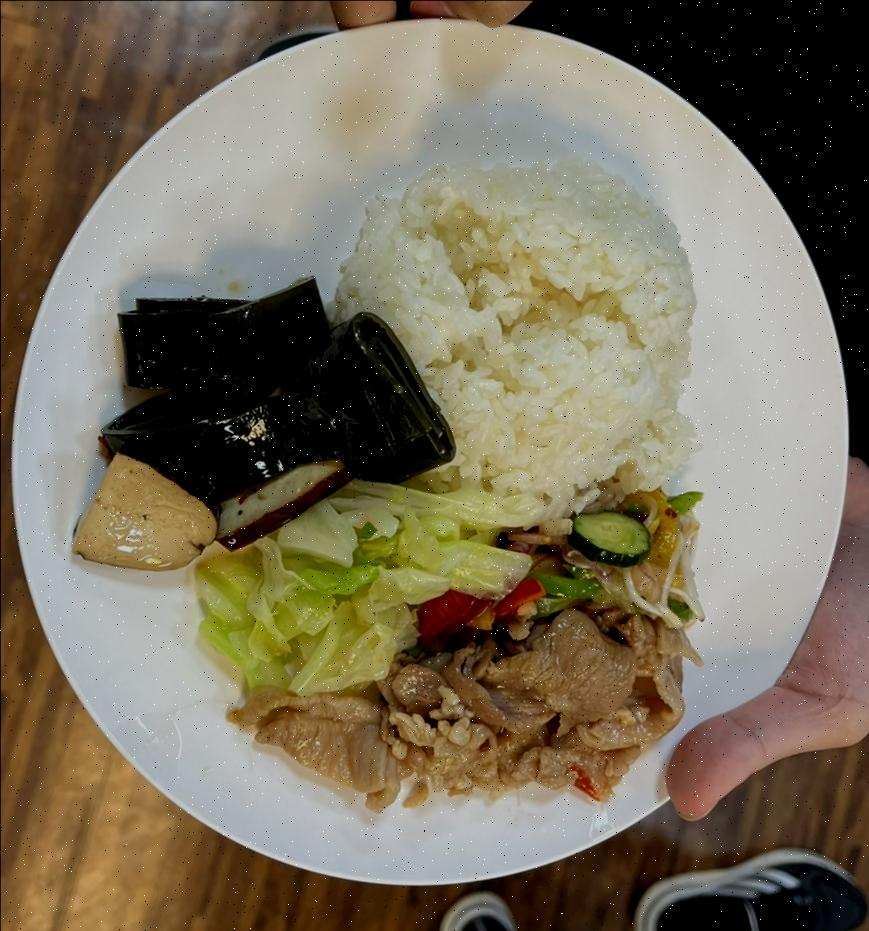big fried chicken leg: (6, 18, 869, 887)
big herbal chicken leg: (334, 151, 696, 514)
braised fish fillet: (64, 272, 450, 568), (194, 479, 528, 696), (441, 485, 702, 631)
braised pork: (249, 611, 686, 815)
